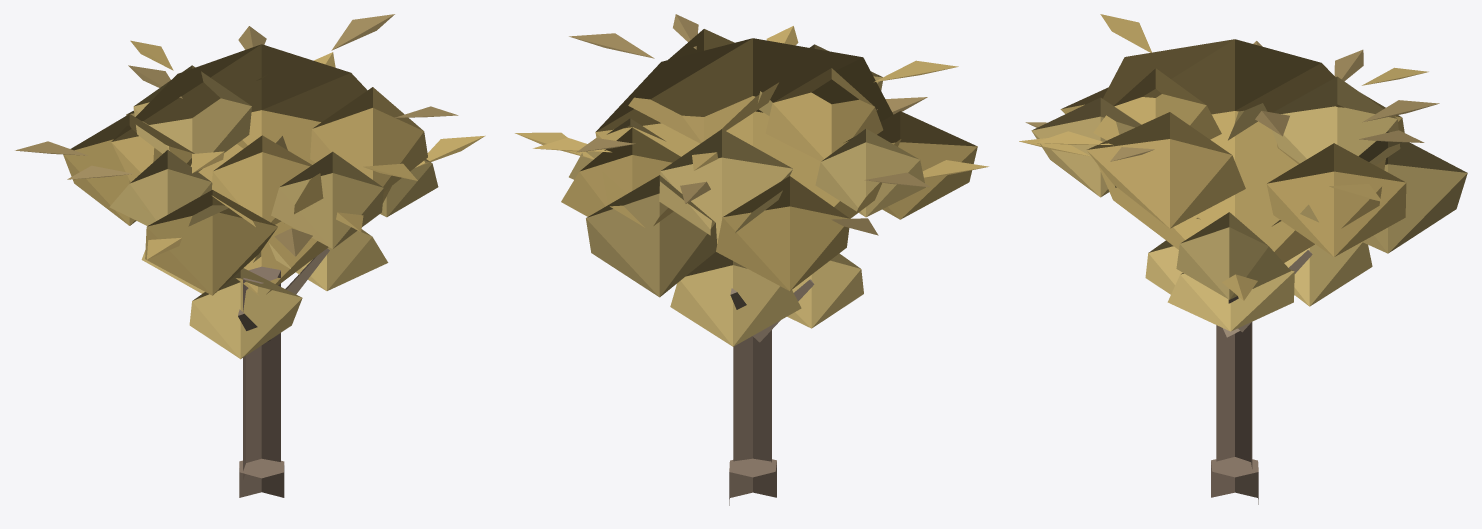
The model's file is shu.xiangzhang@subadult__autumn.glb.
3 views of the same model, side by side, from view 1: azimuth 30°, elevation 25°; view 2: azimuth 150°, elevation 25°; view 3: azimuth 270°, elevation 25° (orthographic). The views are drawn at different scales.
Visible parts, largest first — view 1: shu.xiangzhang@subadult__autumn; view 2: shu.xiangzhang@subadult__autumn; view 3: shu.xiangzhang@subadult__autumn.
Part boxes in pixels (x1,y1,x2,y2): shu.xiangzhang@subadult__autumn: (15, 14, 485, 497); shu.xiangzhang@subadult__autumn: (515, 14, 988, 505); shu.xiangzhang@subadult__autumn: (1019, 14, 1467, 504).
Size of the model in its own units: 9.37 by 9.61 by 8.59.
